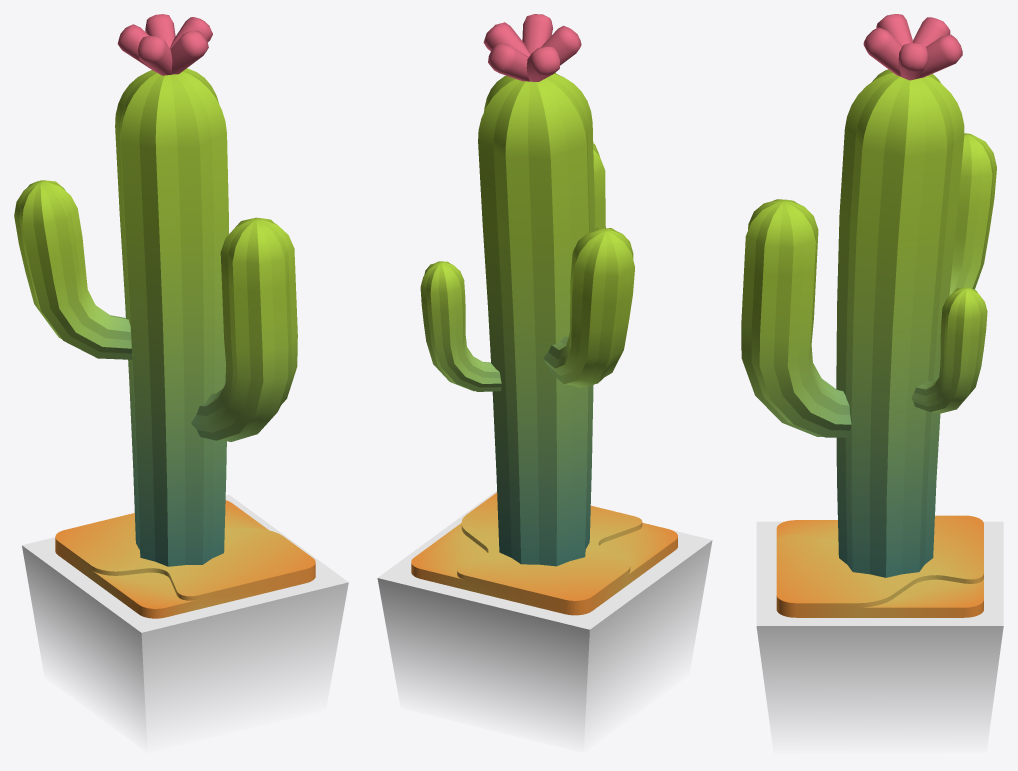
The model's file is NeedleCactus (1).glb.
The picture shows the model from 3 angles, left to right: view 1: azimuth 30°, elevation 25°; view 2: azimuth 150°, elevation 25°; view 3: azimuth 270°, elevation 25°; orthographic projection. The views are drawn at different scales.
Visible parts, largest first — view 1: CactusBig, GroundCubeQuad, GroundSand2; view 2: CactusBig, GroundCubeQuad, GroundSand2; view 3: CactusBig, GroundCubeQuad, GroundSand2.
Boxes of the visible parts, x1=… form: CactusBig: x1=14, y1=14, x2=297, y2=566; GroundCubeQuad: x1=22, y1=495, x2=348, y2=737; GroundSand2: x1=55, y1=500, x2=315, y2=618; CactusBig: x1=420, y1=14, x2=634, y2=566; GroundCubeQuad: x1=377, y1=491, x2=712, y2=737; GroundSand2: x1=411, y1=492, x2=677, y2=615; CactusBig: x1=741, y1=14, x2=996, y2=577; GroundCubeQuad: x1=756, y1=521, x2=1003, y2=737; GroundSand2: x1=776, y1=515, x2=983, y2=617.
Bounding box in the file's own units: 7.47 × 20.68 × 7.17.
